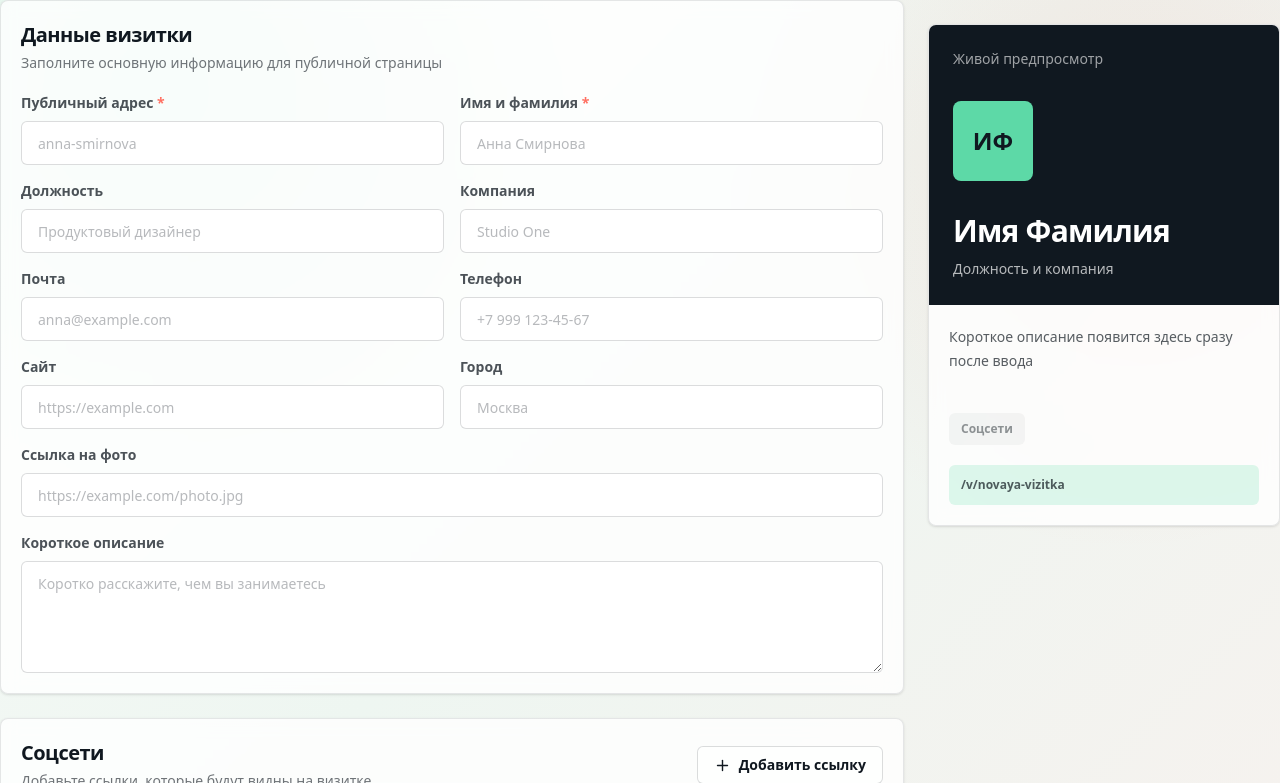
Scenario: CardForm › показывает ошибку при некорректном URL
Type "test-card" into the field labelled "Публичный адрес". click: (232, 143)
box: [21,121,444,165]
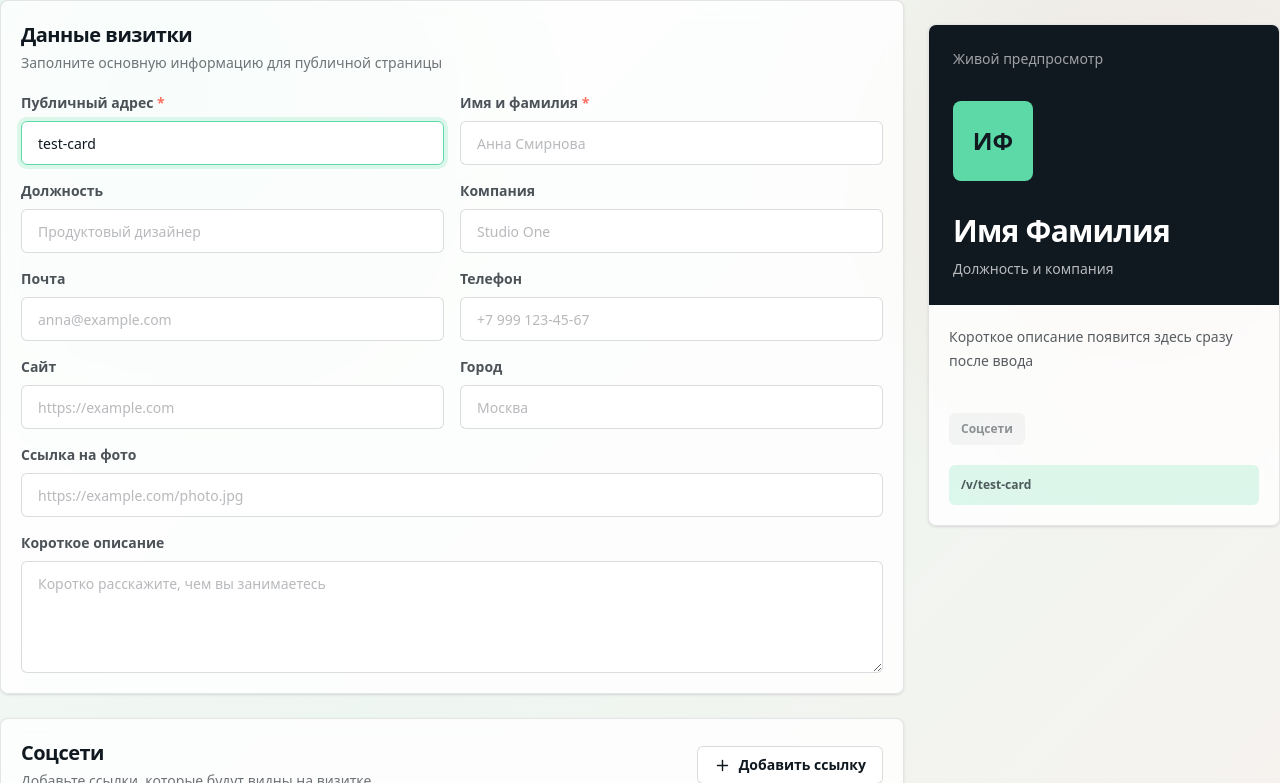
Type "Тестовая Визитка" into the field labelled "Имя и фамилия". click: (672, 143)
box: [460,121,883,165]
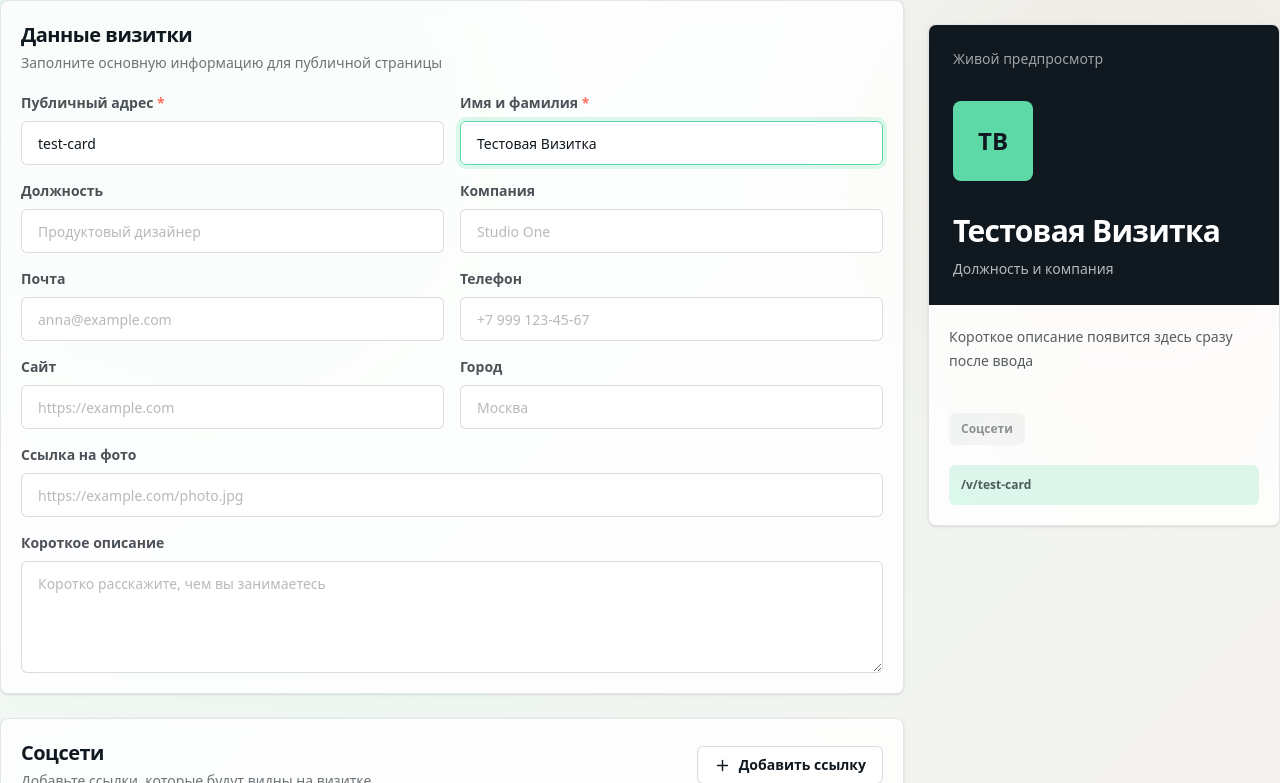
Type "wrong-url" into the field labelled "Сайт". click: (232, 407)
box: [21,385,444,429]
(page scrolled)
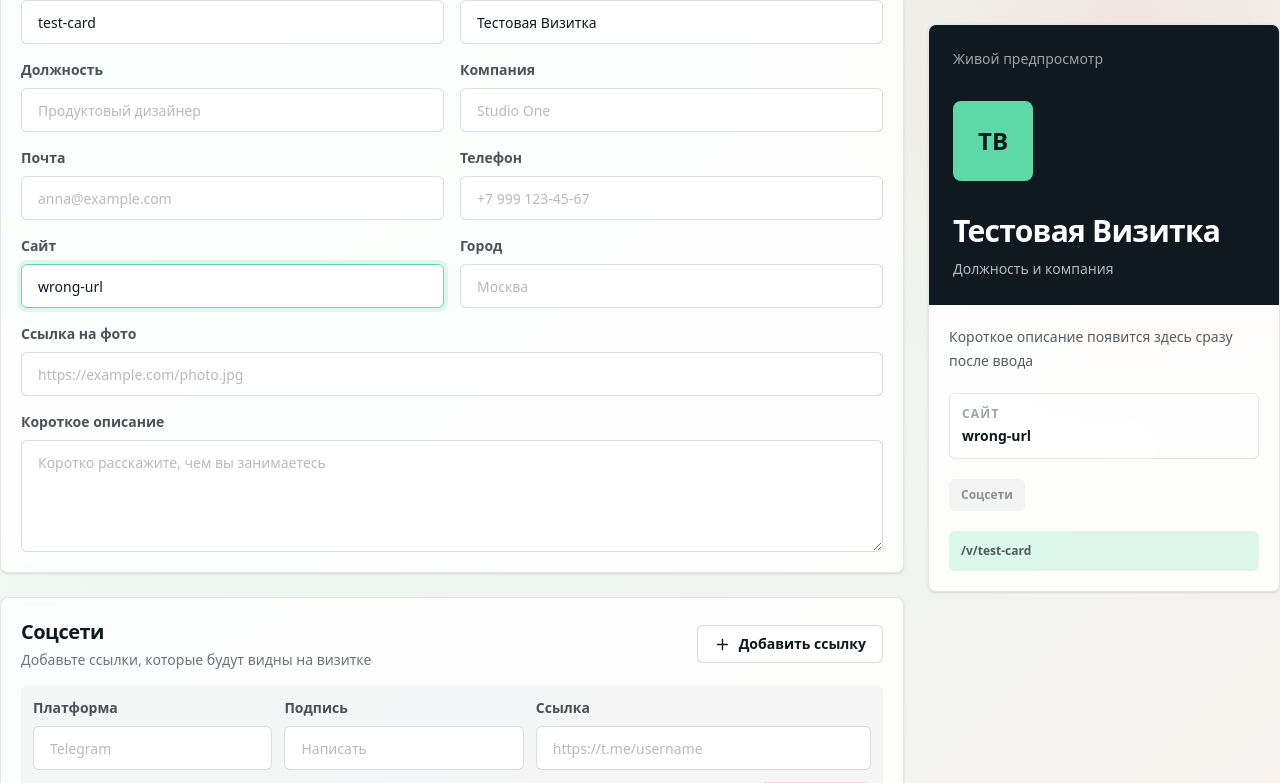
Submit the form named "Создать визитку"
(page scrolled)
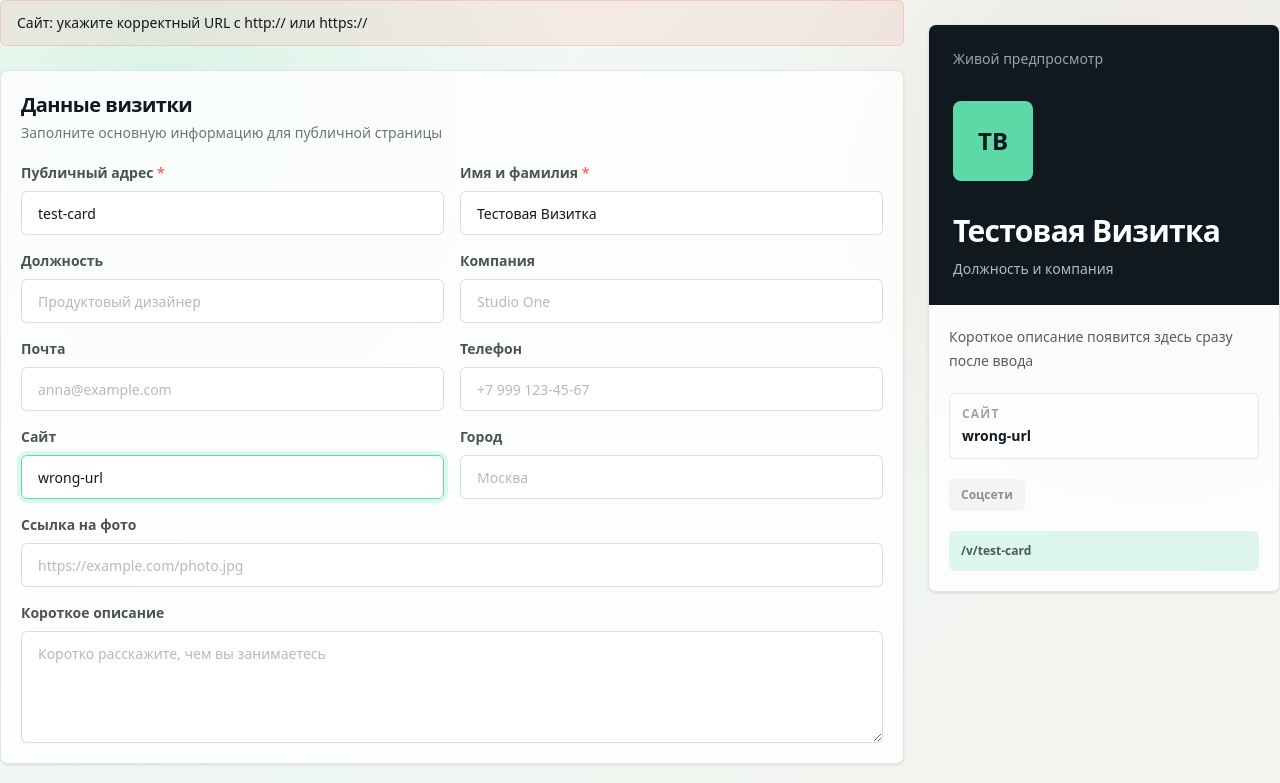
Expected: the text "Сайт: укажите корректный URL с http:// или https://" is shown, [0,0,904,46]
